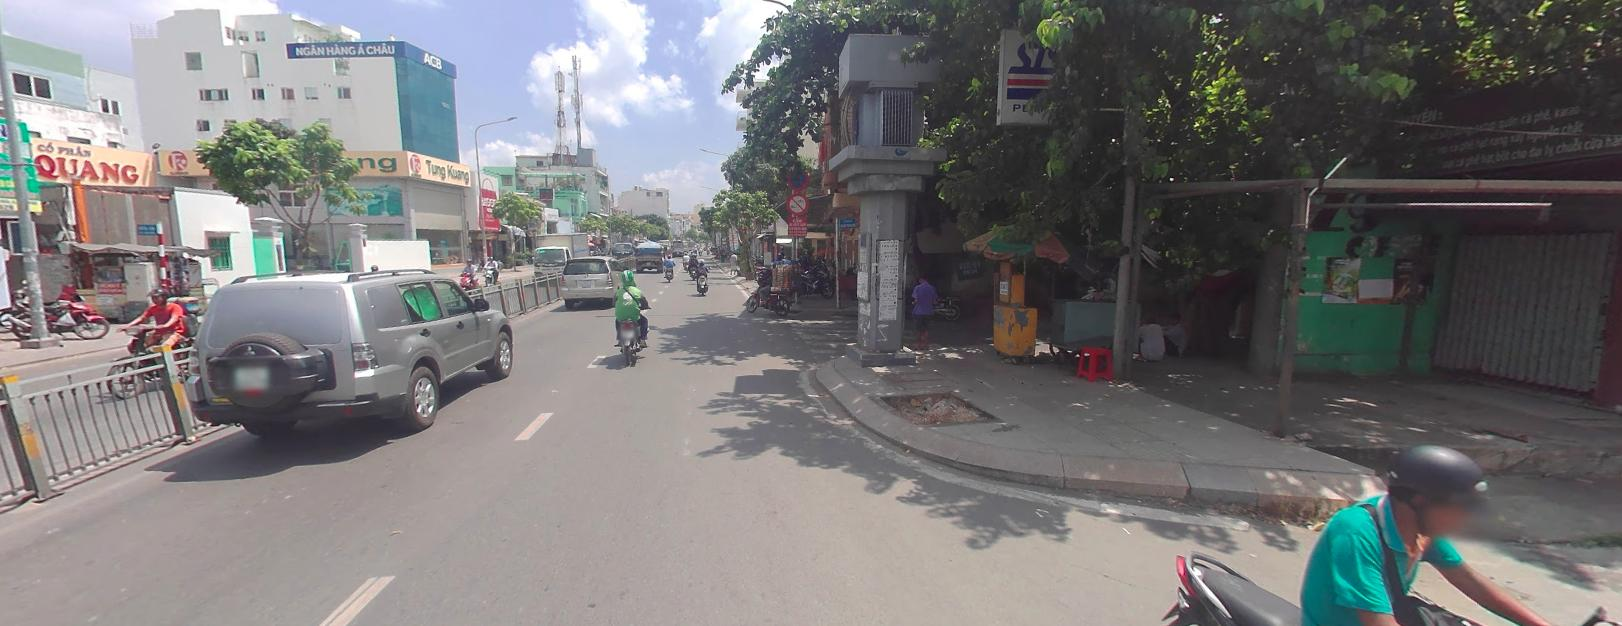Cam con lai: (785, 191, 807, 213)
Cam dung va do: (786, 167, 809, 189)
